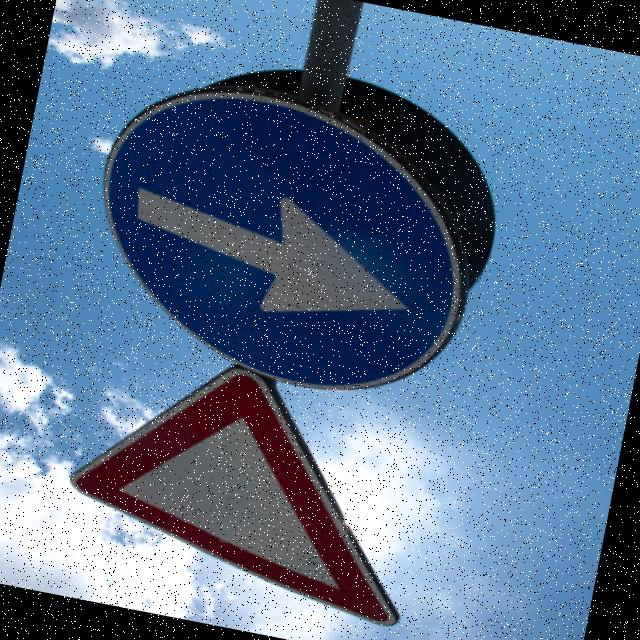give_way: (25, 327, 446, 640)
